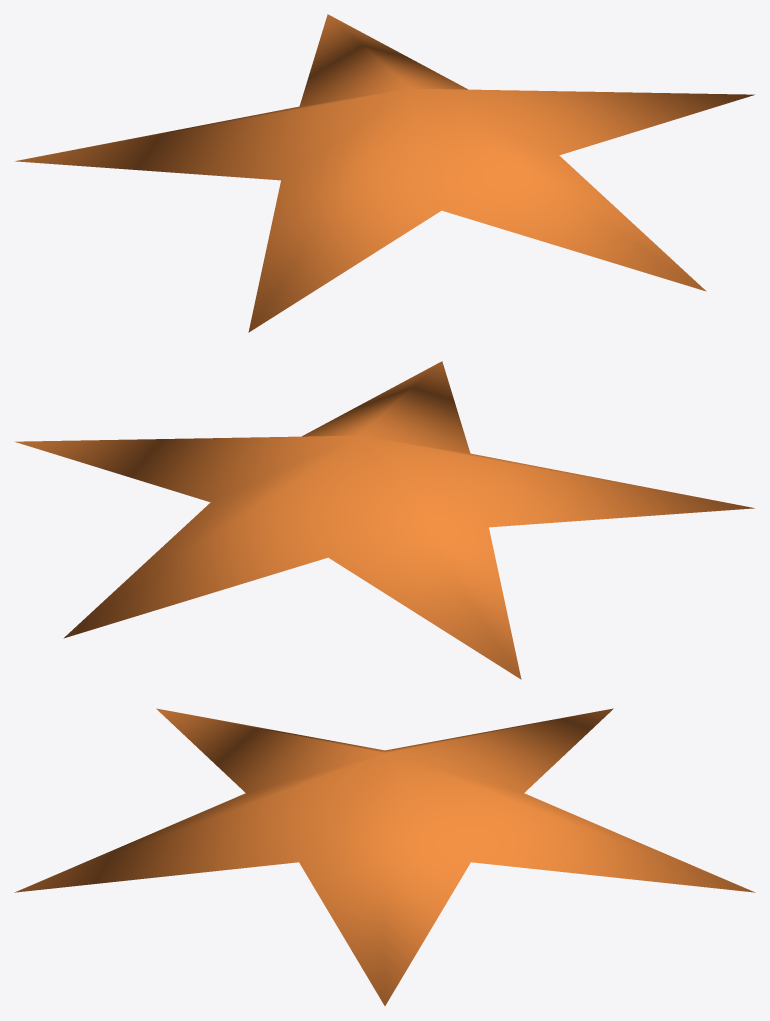
The model's file is Starfish_Orange.fbx.
3 views of the same model, one above another, from view 1: azimuth 30°, elevation 25°; view 2: azimuth 150°, elevation 25°; view 3: azimuth 270°, elevation 25° (orthographic). The views are drawn at different scales.
Parts seen in each view (by area): view 1: Starfish_Orange.001; view 2: Starfish_Orange.001; view 3: Starfish_Orange.001.
Part boxes in pixels (x1,y1,x2,y2): Starfish_Orange.001: [15, 14, 754, 332]; Starfish_Orange.001: [15, 361, 754, 679]; Starfish_Orange.001: [14, 708, 755, 1005].
Size of the model in its own units: 0.2171 by 0.03 by 0.2283.
